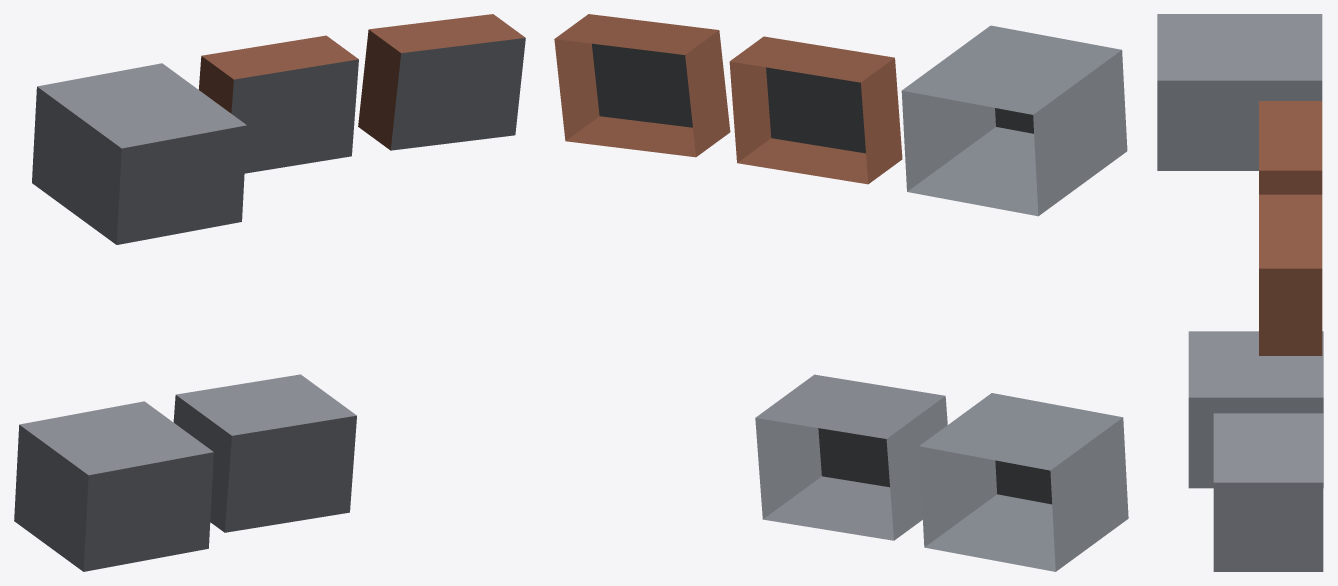
File: island_bldg_24_10.obj
The picture shows the model from 3 angles, left to right: view 1: azimuth 30°, elevation 25°; view 2: azimuth 150°, elevation 25°; view 3: azimuth 270°, elevation 25°; orthographic projection. The views are drawn at different scales.
Parts seen in each view (by area): view 1: island_bldg_24_10; view 2: island_bldg_24_10; view 3: island_bldg_24_10.
Part boxes in pixels (box(x1,y1,x2,y2)): island_bldg_24_10: box(14, 14, 525, 571); island_bldg_24_10: box(554, 14, 1128, 571); island_bldg_24_10: box(1157, 14, 1323, 571).
Size of the model in its own units: 83.88 by 75.04 by 25.94.
